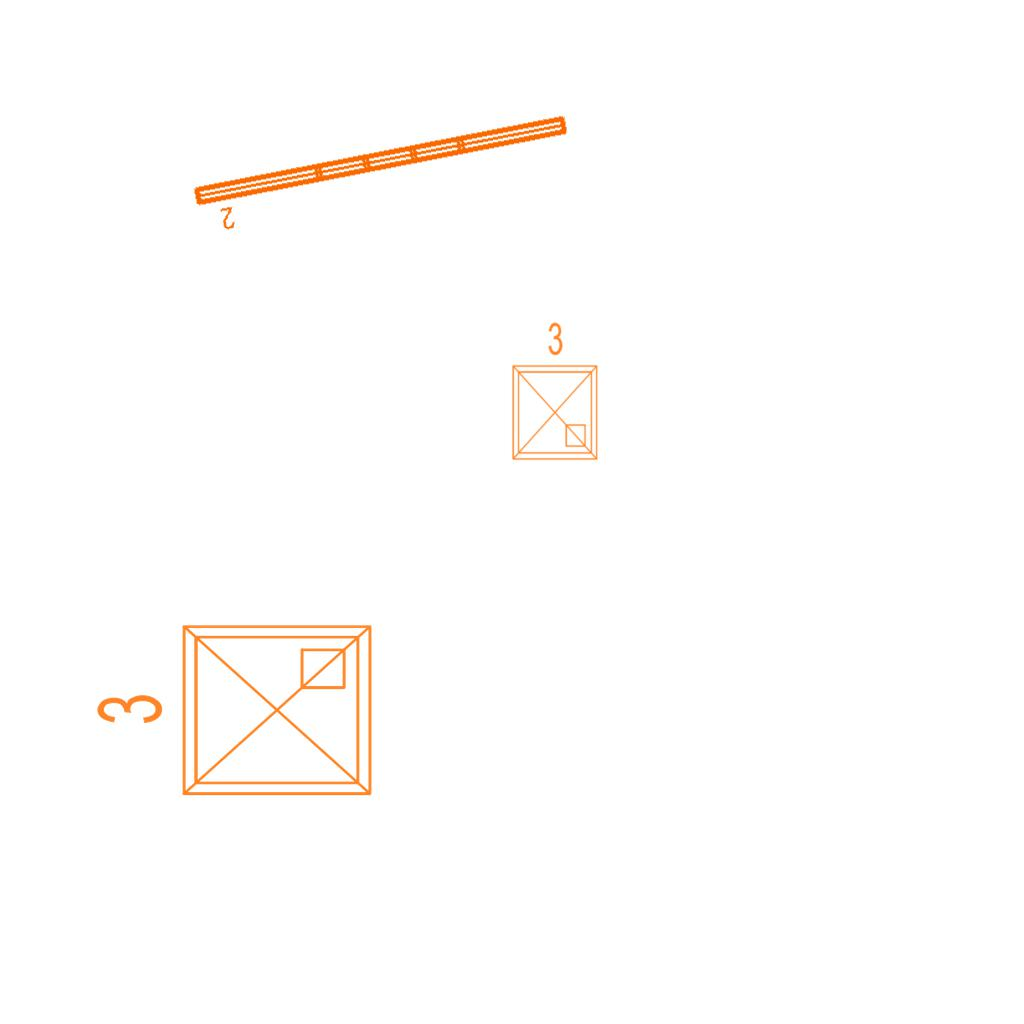Ambulanz_Pendelleuchte_LED: (188, 108, 579, 238)
Einbaudownlights_LED_Konferenzraeume: (86, 610, 386, 818), (501, 317, 605, 467)
